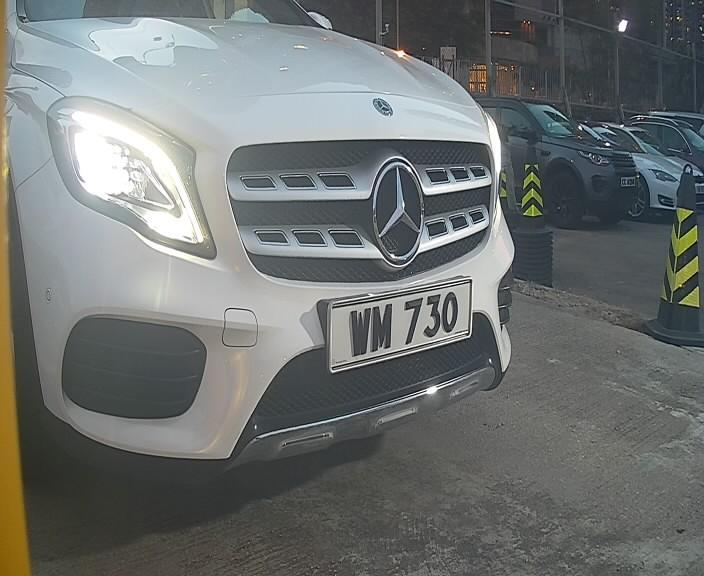privatecar: (13, 8, 516, 502)
